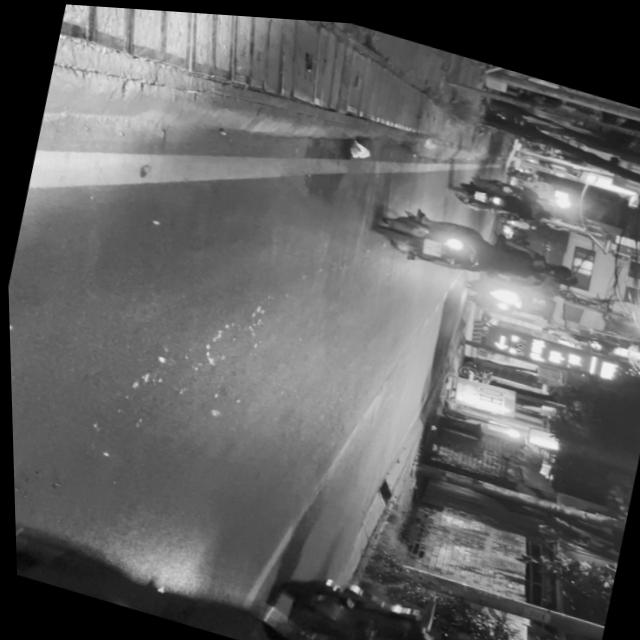licenseplate: (12, 501, 588, 640), (365, 190, 587, 305)
motorcyclist: (535, 248, 574, 277)
nohelmet: (419, 231, 443, 251)
